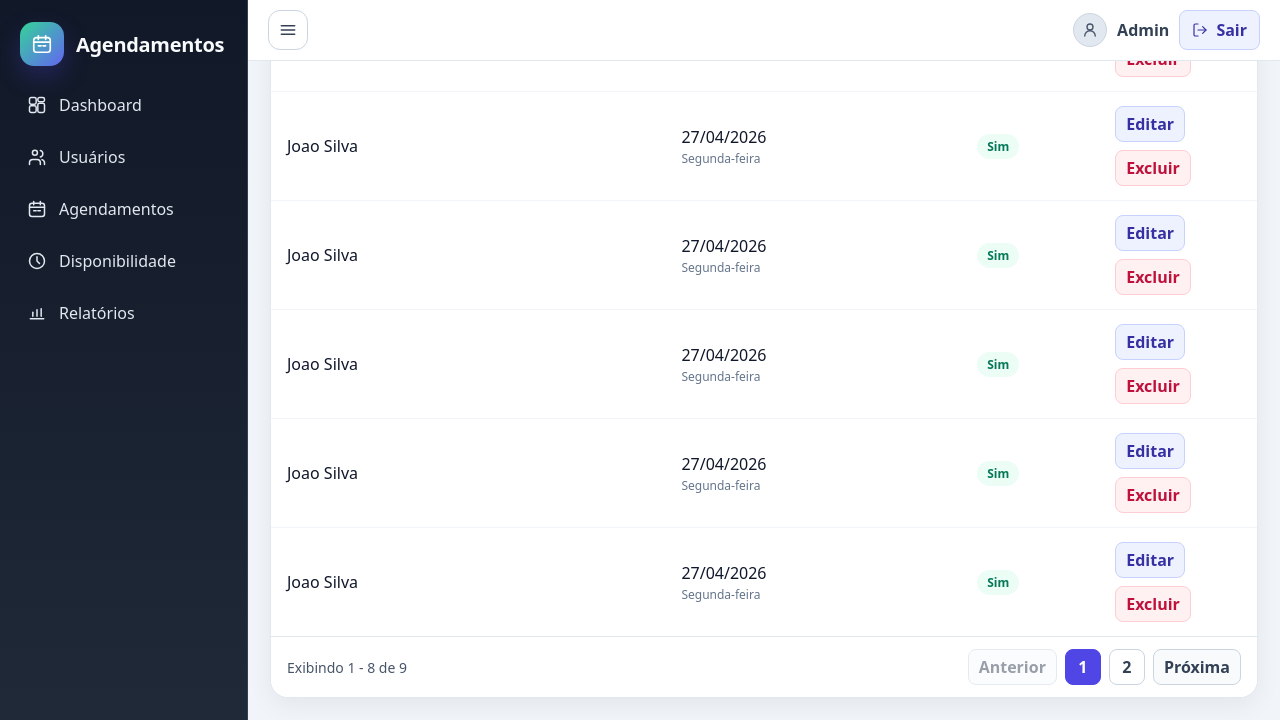
Test: Disponibilidade - navegação e CRUD › exibe paginação e navega entre páginas
(page scrolled)
expect the text "Exibindo 1 - 8 de 9" is shown: met, box [287,658,407,676]
Click the button "Próxima": (1197, 667) [1153,649,1241,685]
(page scrolled)
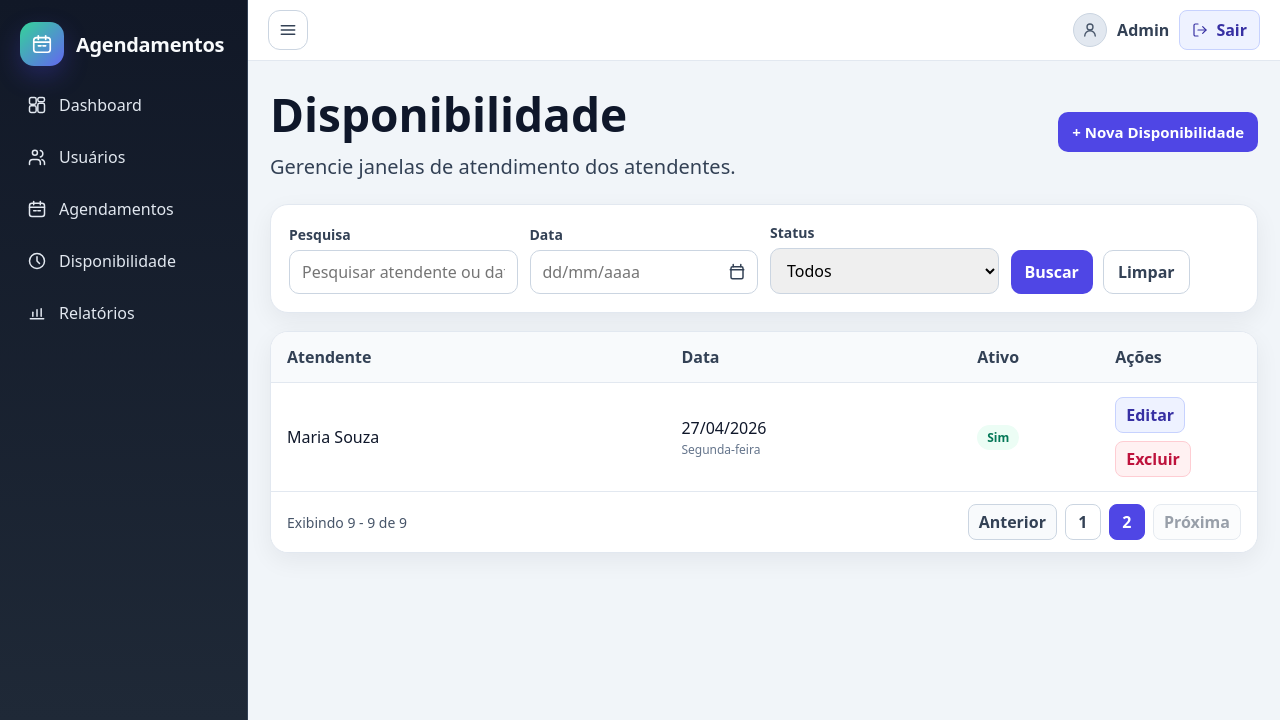
expect the text "Exibindo 9 - 9 de 9" is shown: met, box [287,512,407,532]
expect the text "Maria Souza" is shown: met, box [271,382,665,491]
